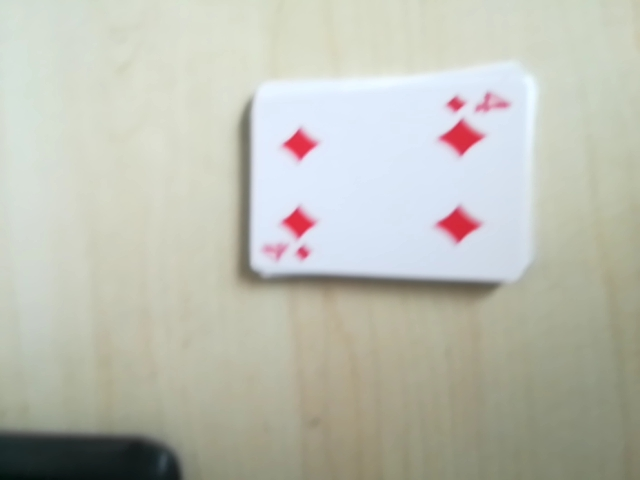fk 4: (443, 77, 517, 121), (255, 235, 318, 270)
